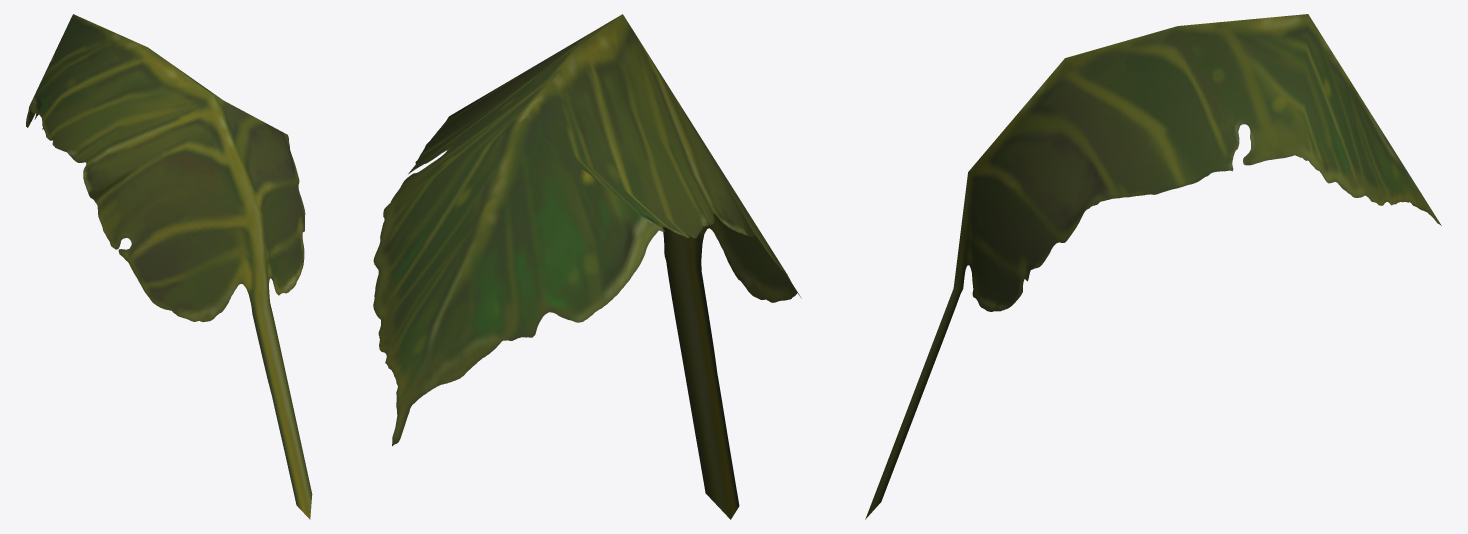
The model's file is Wetlands_Leaf_02.fbx.
3 renders of one model, left to right at view 1: azimuth 30°, elevation 25°; view 2: azimuth 150°, elevation 25°; view 3: azimuth 270°, elevation 25°, orthographic. The views are drawn at different scales.
Parts seen in each view (by area): view 1: Wetlands_Leaf_02; view 2: Wetlands_Leaf_02; view 3: Wetlands_Leaf_02.
Boxes of the visible parts, box(x1,y1,x2,y2) form: Wetlands_Leaf_02: box(26, 14, 312, 519); Wetlands_Leaf_02: box(373, 14, 801, 519); Wetlands_Leaf_02: box(865, 14, 1441, 519).
Bounding box in the file's own units: 1.26 × 2.12 × 2.39.
Materials: 1 (1 with a texture image).
